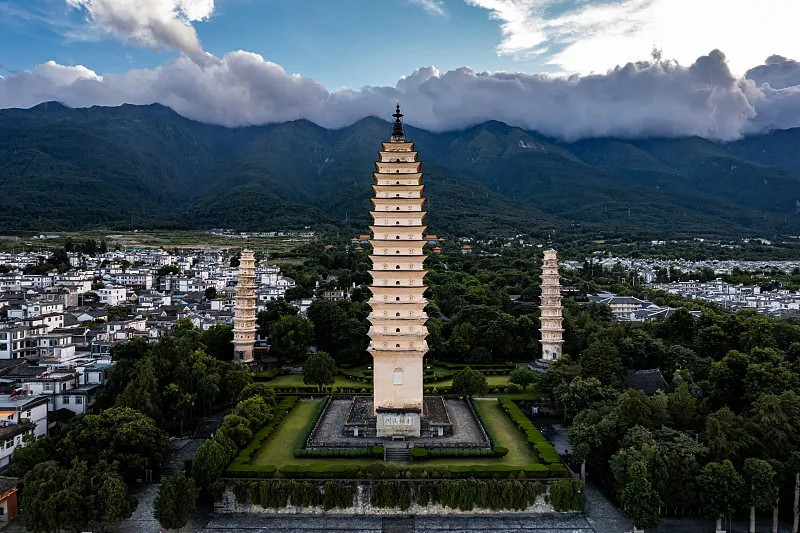ThreePagoda: (365, 102, 428, 417)
